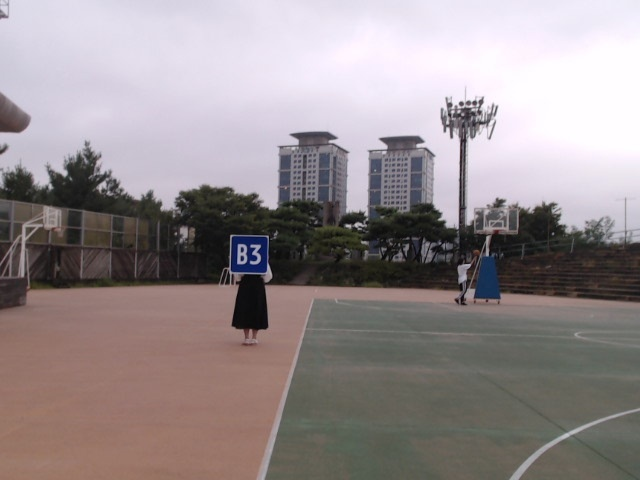delivery_b3: (230, 235, 268, 274)
